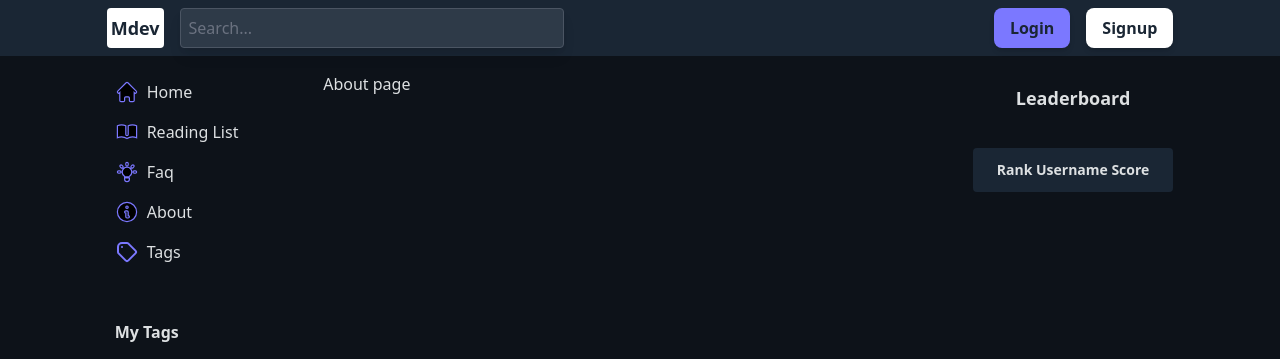
Test: navbar is working › go to faq page
Click the link "Faq": x=144, y=172 [115,160,174,184]
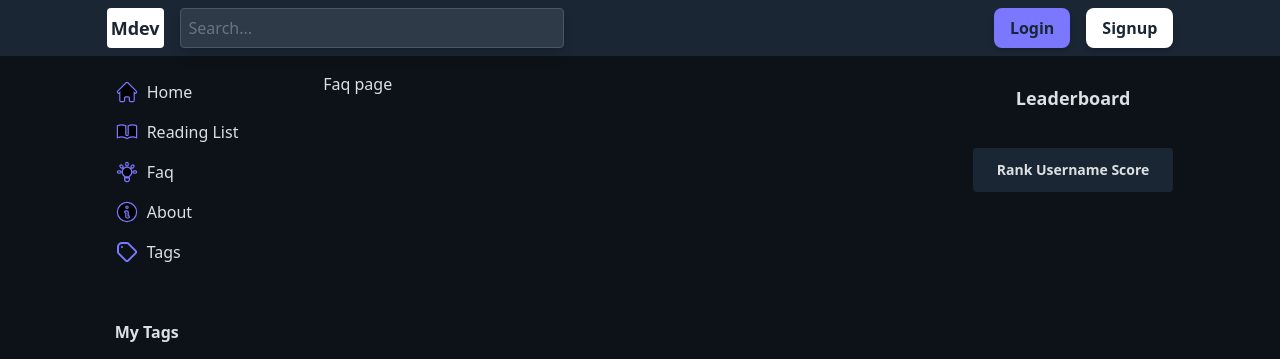
Check: the text "Faq page" is shown, box [323,73,392,95]
